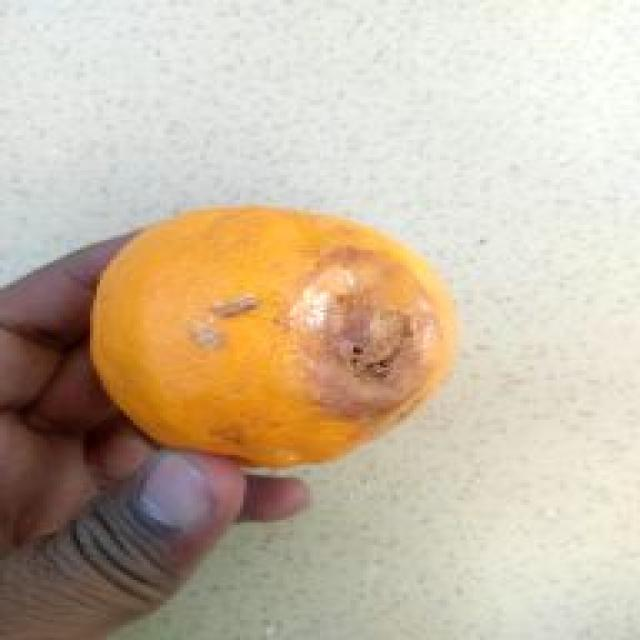Bad_Orange: (93, 206, 455, 466)
